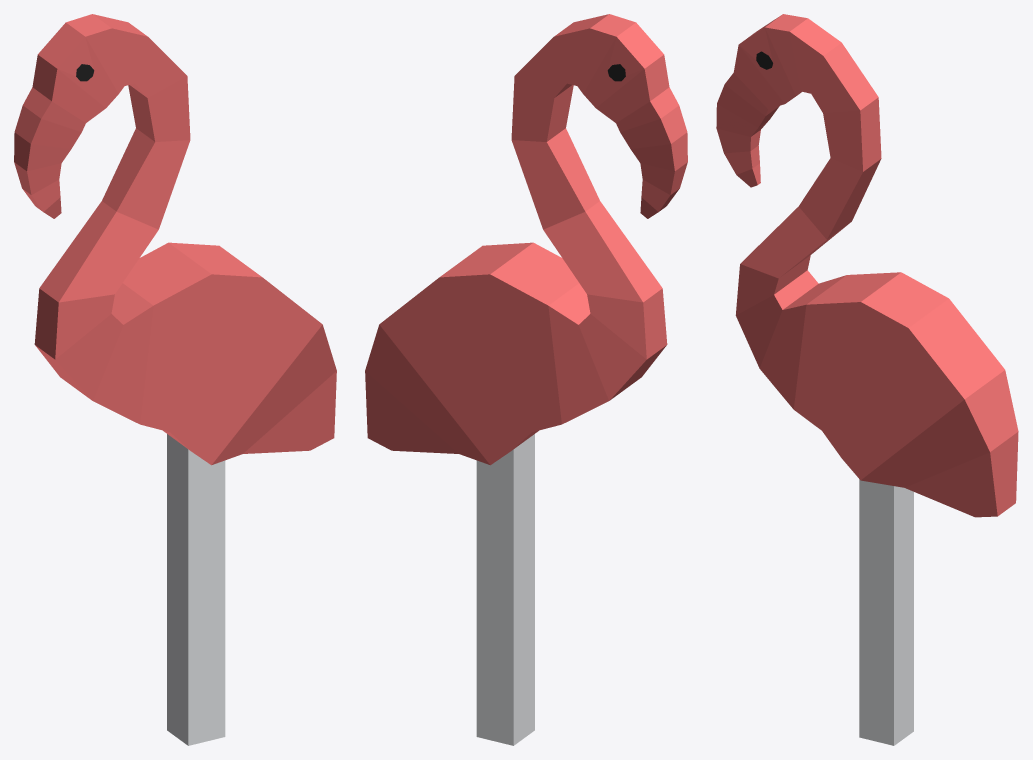
Rendered from Building_Objects_Pelican.fbx.
3 renders of one model, left to right at view 1: azimuth 30°, elevation 25°; view 2: azimuth 150°, elevation 25°; view 3: azimuth 330°, elevation 25°, orthographic. The views are drawn at different scales.
Parts seen in each view (by area): view 1: Building_Objects_Pelican; view 2: Building_Objects_Pelican; view 3: Building_Objects_Pelican.
Part boxes in pixels (x1,y1,x2,y2): Building_Objects_Pelican: (14,14,336,745); Building_Objects_Pelican: (365,14,687,745); Building_Objects_Pelican: (716,14,1018,745).
Size of the model in its own units: 31.41 by 72.62 by 7.76.
